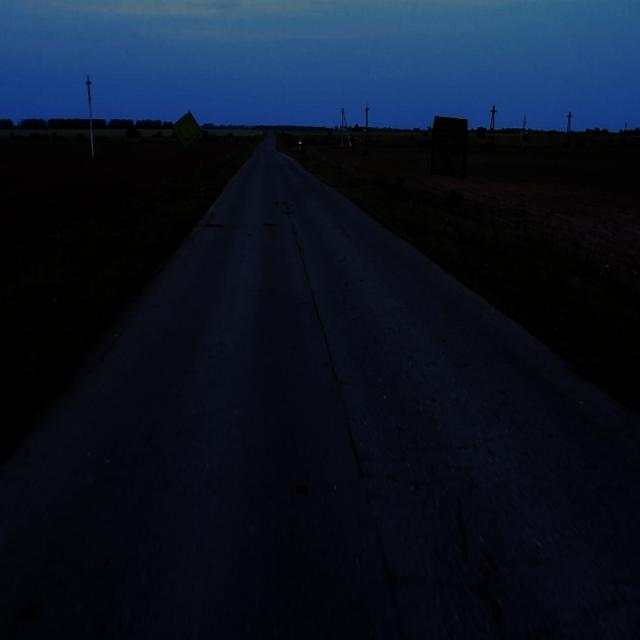road: (0, 129, 639, 639)
